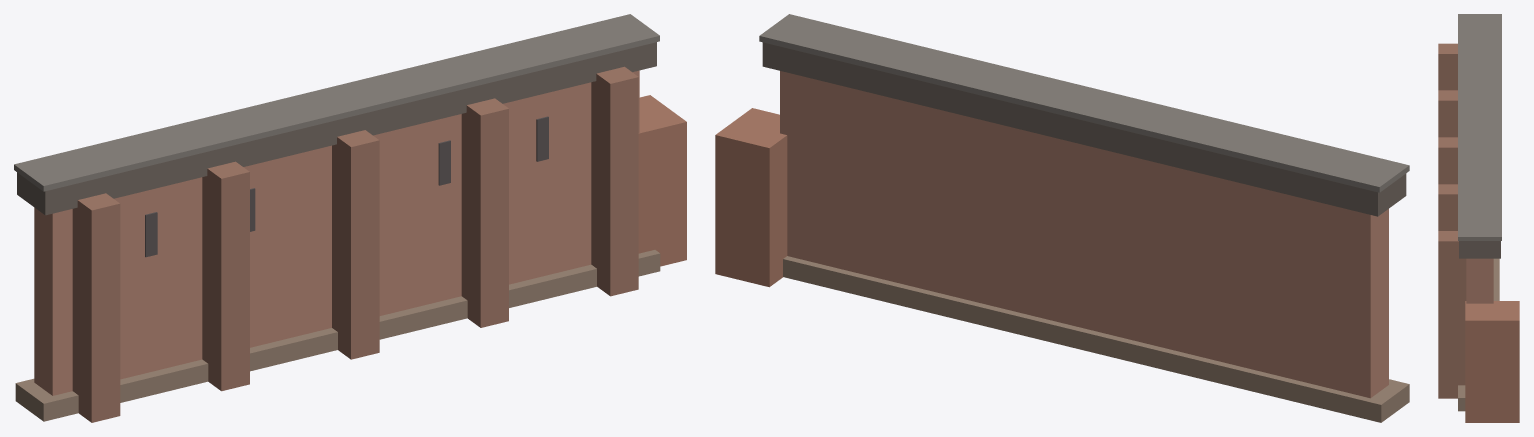
The model's file is demo-wall.glb.
The picture shows the model from 3 angles, left to right: view 1: azimuth 30°, elevation 25°; view 2: azimuth 150°, elevation 25°; view 3: azimuth 270°, elevation 25°; orthographic projection. The views are drawn at different scales.
Parts seen in each view (by area): view 1: wall-body, roof-top, roof-beam, foundation, buttress-0, buttress-2, buttress-1, buttress-4, buttress-3, right-wing; view 2: wall-body, roof-top, roof-beam, foundation, right-wing; view 3: roof-top, right-wing, buttress-4, wall-body, buttress-0, buttress-1, buttress-2, buttress-3, roof-beam, foundation.
Part boxes in pixels (x1,y1,x2,y2): wall-body: (34, 70, 639, 395); roof-top: (14, 14, 659, 191); roof-beam: (17, 42, 656, 215); foundation: (15, 250, 660, 421); buttress-0: (72, 193, 120, 422); buttress-2: (332, 130, 379, 359); buttress-1: (202, 161, 249, 391); buttress-4: (591, 66, 638, 296); buttress-3: (461, 98, 508, 327); right-wing: (638, 95, 686, 266); wall-body: (780, 71, 1388, 398); roof-top: (759, 14, 1409, 192); roof-beam: (762, 42, 1406, 216); foundation: (783, 256, 1409, 422); right-wing: (715, 108, 787, 287); roof-top: (1458, 14, 1501, 240); right-wing: (1465, 301, 1519, 422); buttress-4: (1438, 231, 1466, 398); wall-body: (1466, 258, 1493, 303); buttress-0: (1438, 43, 1457, 90); buttress-1: (1438, 90, 1457, 137); buttress-2: (1438, 137, 1457, 184); buttress-3: (1438, 184, 1457, 230); roof-beam: (1459, 241, 1500, 258); foundation: (1458, 258, 1499, 411).
Bounding box in the file's own units: 13.25 × 4.61 × 1.95.
